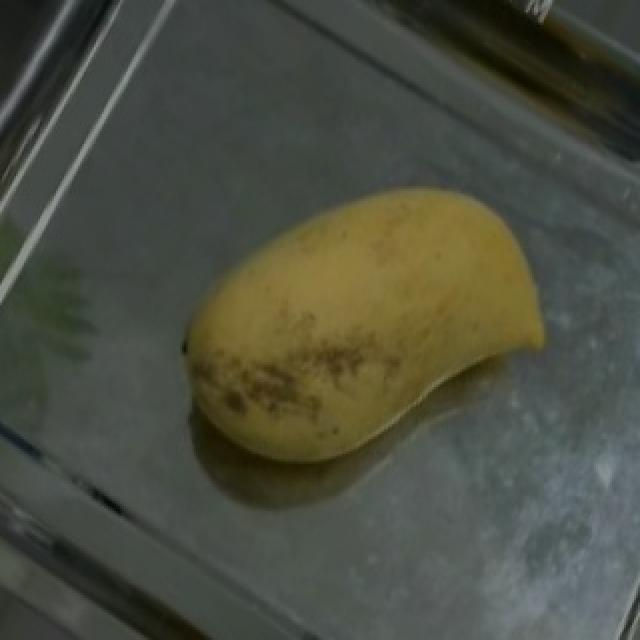fruit: (258, 117, 608, 496)
